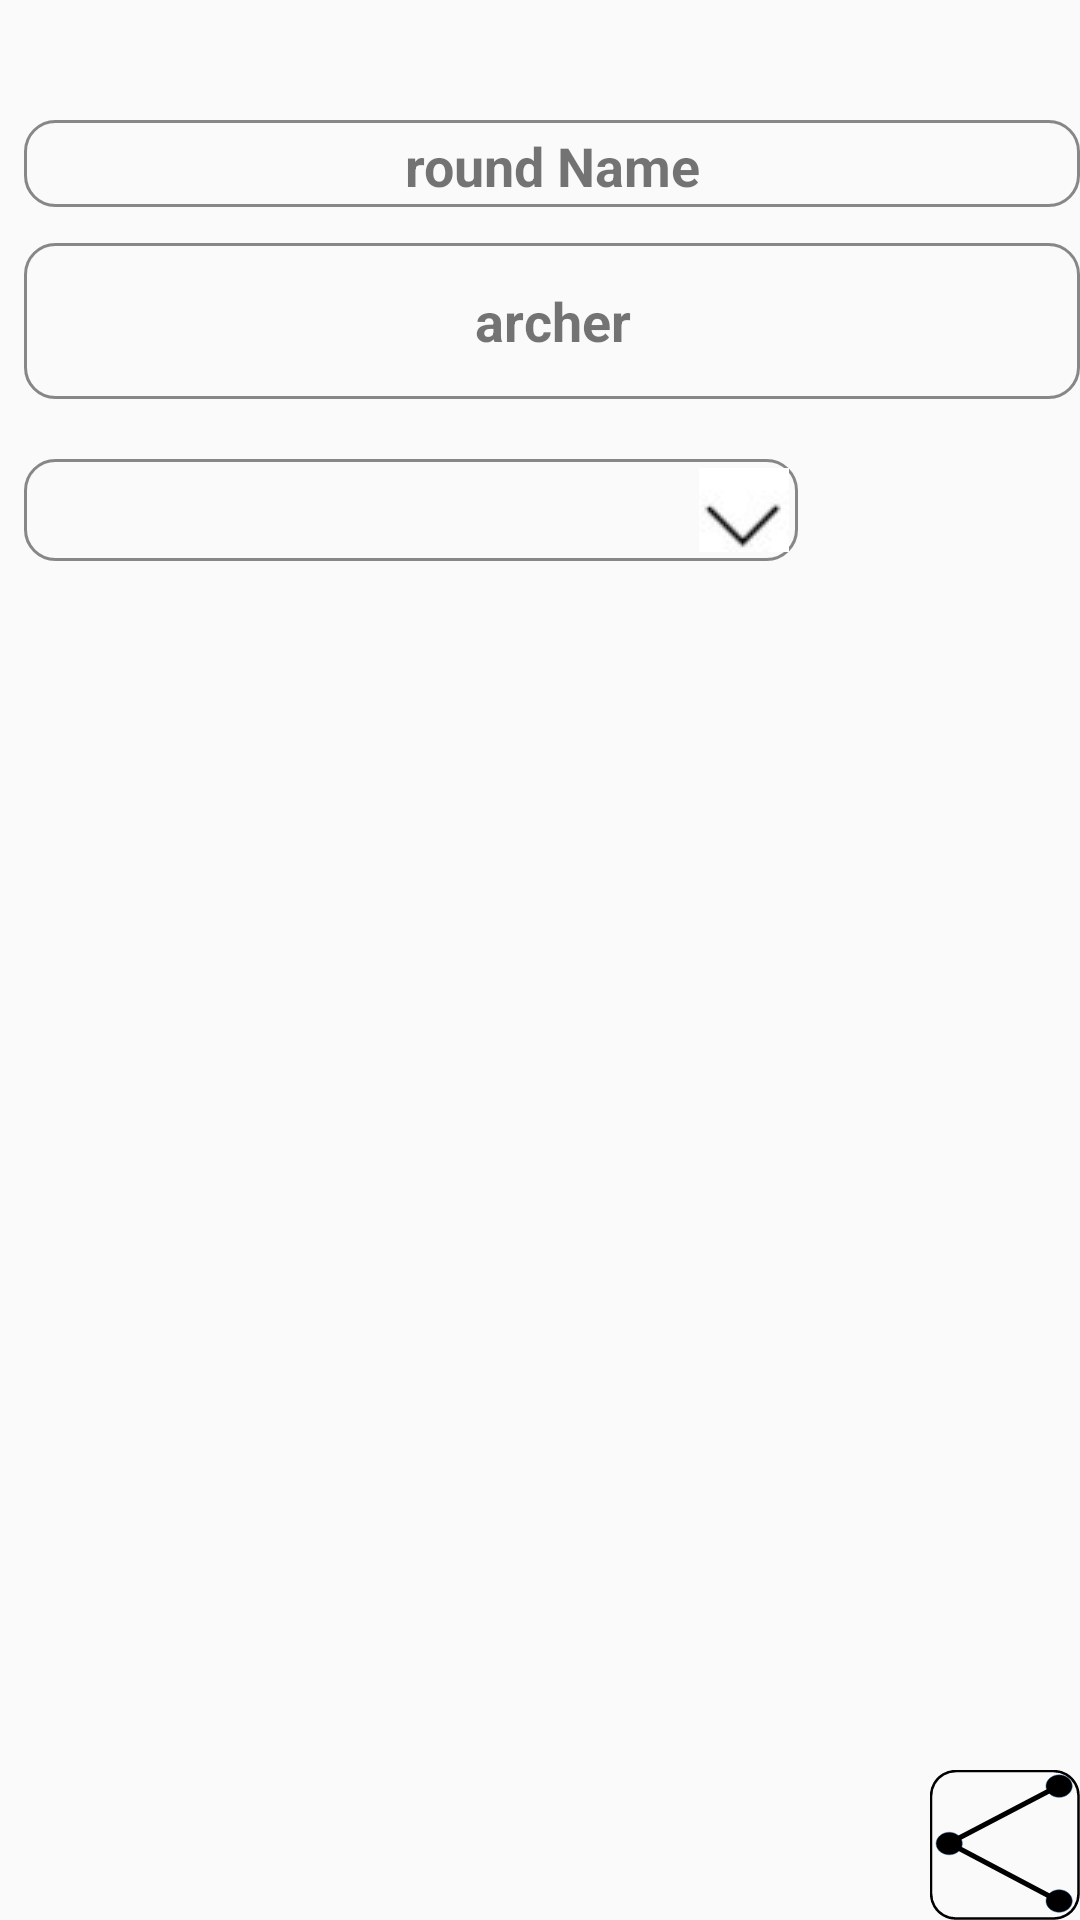

Locate icon controls on the screen. Image size 1080×1920, boxes as (x1, y1, x2, y2).
partage: (930, 1770, 1080, 1920)
